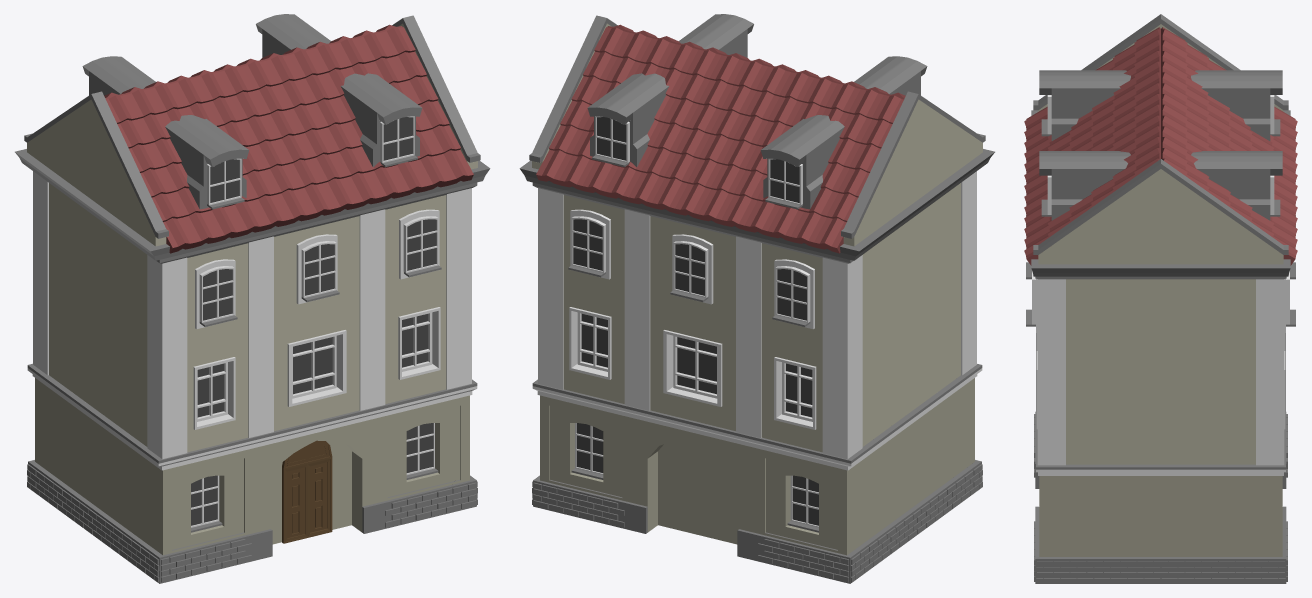
File: building1.glb
3 renders of one model, left to right at view 1: azimuth 30°, elevation 25°; view 2: azimuth 150°, elevation 25°; view 3: azimuth 270°, elevation 25°, orthographic. The views are drawn at different scales.
Visible parts, largest first — view 1: Building1_Small; view 2: Building1_Small; view 3: Building1_Small.
Boxes of the visible parts, <box> form: Building1_Small: <box>15,14,490,583</box>; Building1_Small: <box>519,14,994,583</box>; Building1_Small: <box>1024,14,1297,583</box>.
Bounding box in the file's own units: 3.75 × 4.66 × 2.74.
